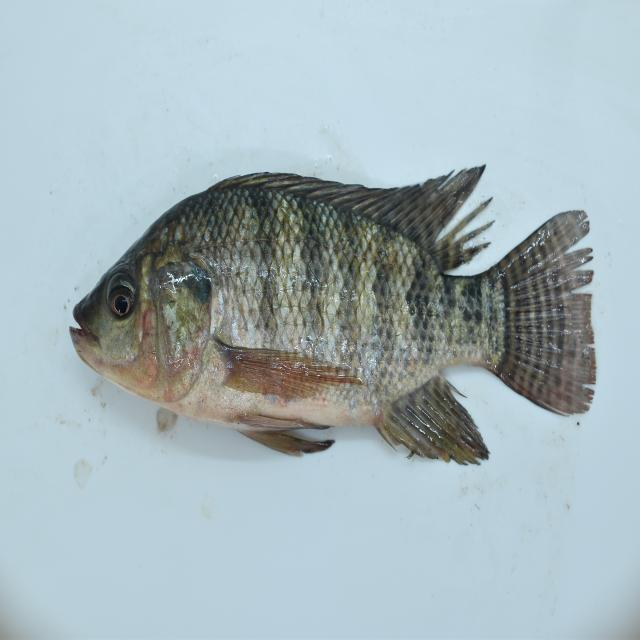Columnaris Disease: (59, 156, 624, 468)
